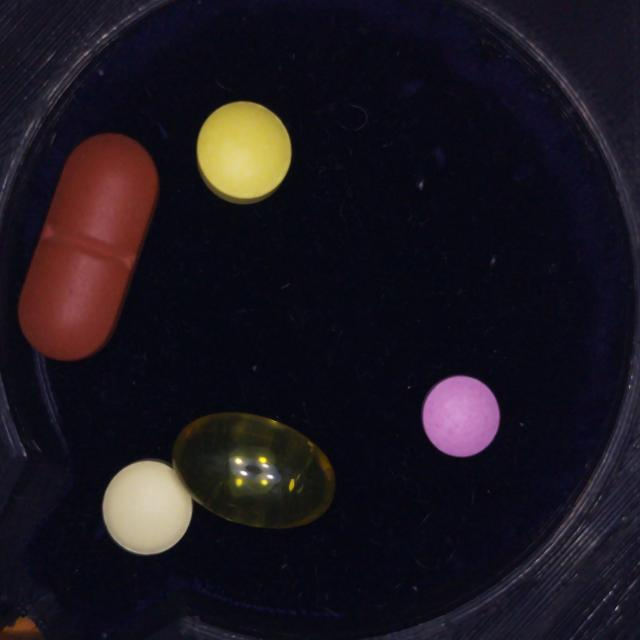Pill: (18, 134, 159, 361), (173, 413, 335, 529), (196, 101, 292, 204), (102, 460, 192, 555), (422, 376, 500, 457)
